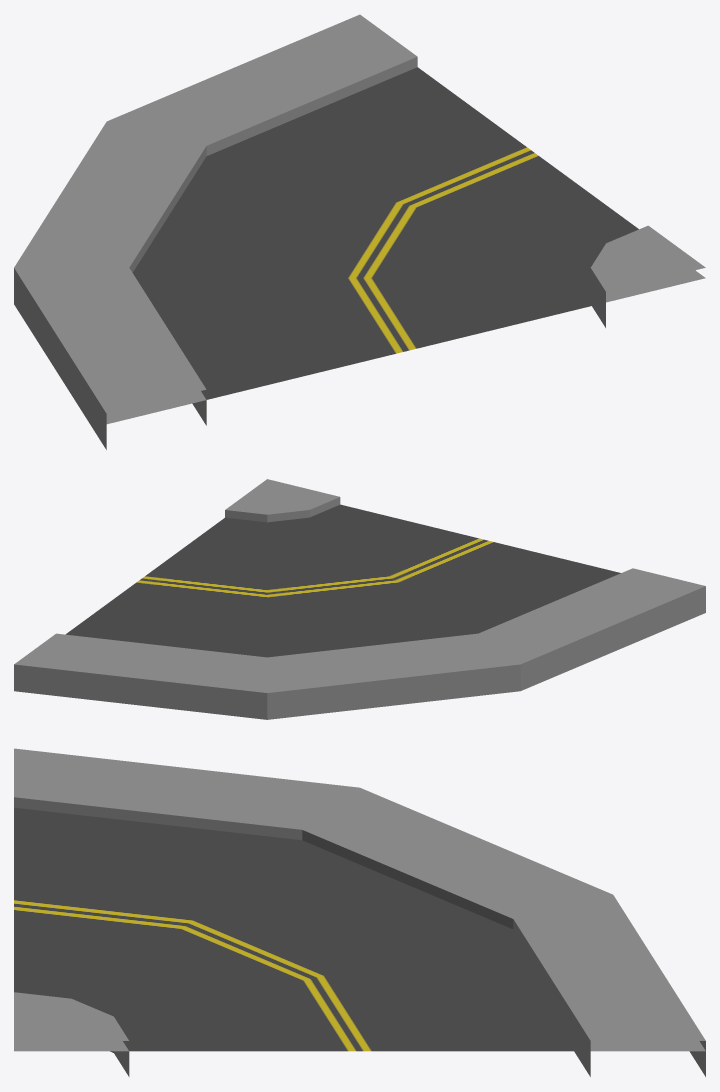
The picture shows the model from 3 angles, top to bottom: view 1: azimuth 30°, elevation 25°; view 2: azimuth 150°, elevation 25°; view 3: azimuth 270°, elevation 25°; orthographic projection. The views are drawn at different scales.
Visible parts, largest first — view 1: Model_0, Skybox; view 2: Model_0; view 3: Model_0, Skybox.
Part boxes in pixels (bbox=[...]): Model_0: bbox=[14, 14, 705, 449]; Skybox: bbox=[106, 82, 705, 424]; Model_0: bbox=[14, 479, 705, 719]; Model_0: bbox=[14, 748, 705, 1076]; Skybox: bbox=[14, 947, 705, 1051].
Size of what is drawn, in the model's own units: 2400 by 140 by 2400.
